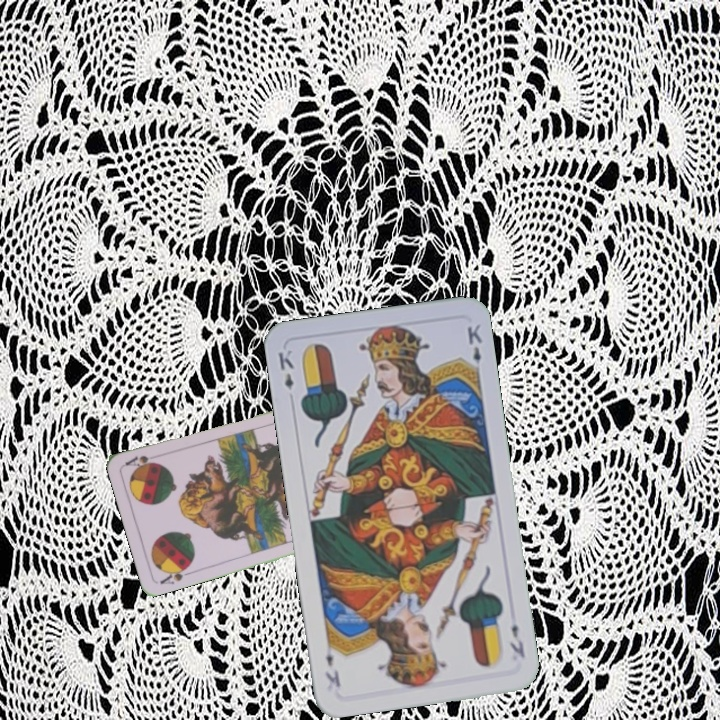EK: (274, 345, 296, 392), (506, 620, 528, 660)
SA: (156, 561, 195, 587)
